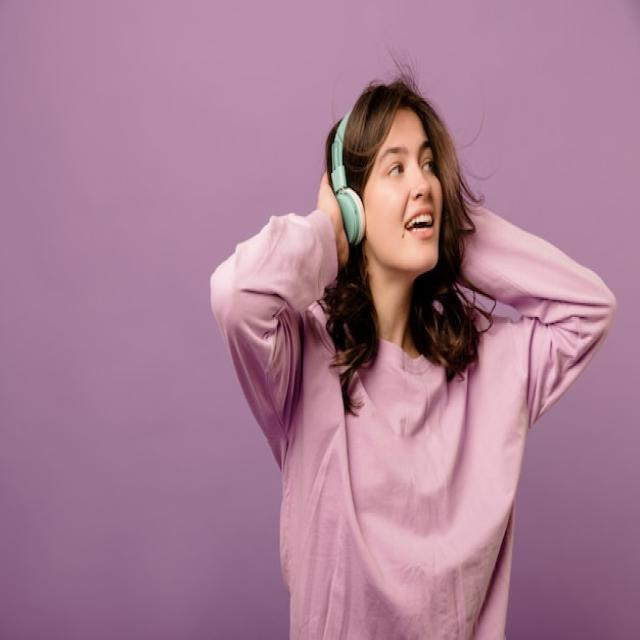Headphone: (330, 108, 368, 249)
